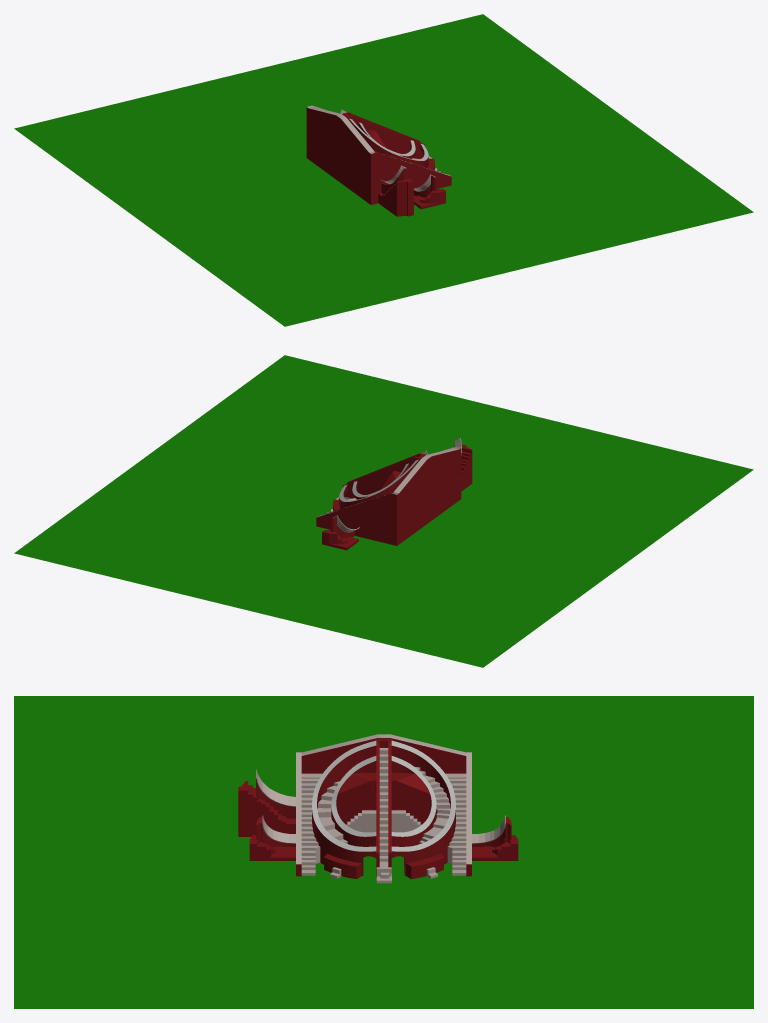
File: Jantar_Mantar.fbx
3 renders of one model, top to bottom at view 1: azimuth 30°, elevation 25°; view 2: azimuth 150°, elevation 25°; view 3: azimuth 270°, elevation 25°, orthographic. The views are drawn at different scales.
Parts seen in each view (by area): view 1: ground, main _structure.001, gaurd_rail, Plane, bigger_arc, Cube; view 2: ground, main _structure.001, gaurd_rail, bigger_arc, Cube; view 3: ground, bigger_arc, inside_door, main _structure.001, side_stairs, smaller_arc, Cube, Plane, front_extrude, stairs, gaurd_rail, right_stair (+2 smaller).
Boxes of the visible parts, x1=… form: ground: x1=14, y1=14, x2=753, y2=326; main _structure.001: x1=306, y1=105, x2=451, y2=204; gaurd_rail: x1=342, y1=112, x2=425, y2=158; Plane: x1=372, y1=178, x2=413, y2=216; bigger_arc: x1=348, y1=118, x2=428, y2=167; Cube: x1=414, y1=175, x2=445, y2=209; ground: x1=14, y1=355, x2=753, y2=667; main _structure.001: x1=316, y1=446, x2=461, y2=545; gaurd_rail: x1=342, y1=453, x2=425, y2=498; bigger_arc: x1=339, y1=459, x2=419, y2=508; Cube: x1=322, y1=516, x2=358, y2=550; ground: x1=14, y1=696, x2=753, y2=1008; bigger_arc: x1=312, y1=740, x2=455, y2=875; inside_door: x1=338, y1=772, x2=429, y2=832; main _structure.001: x1=296, y1=734, x2=471, y2=876; side_stairs: x1=301, y1=773, x2=466, y2=875; smaller_arc: x1=331, y1=756, x2=436, y2=866; Cube: x1=249, y1=817, x2=518, y2=860; Plane: x1=238, y1=781, x2=295, y2=836; front_extrude: x1=324, y1=854, x2=443, y2=879; stairs: x1=379, y1=748, x2=388, y2=861; gaurd_rail: x1=376, y1=738, x2=391, y2=877; right_stair: x1=415, y1=767, x2=450, y2=843.
Bounding box in the file's own units: 6451 × 1391 × 6451.
